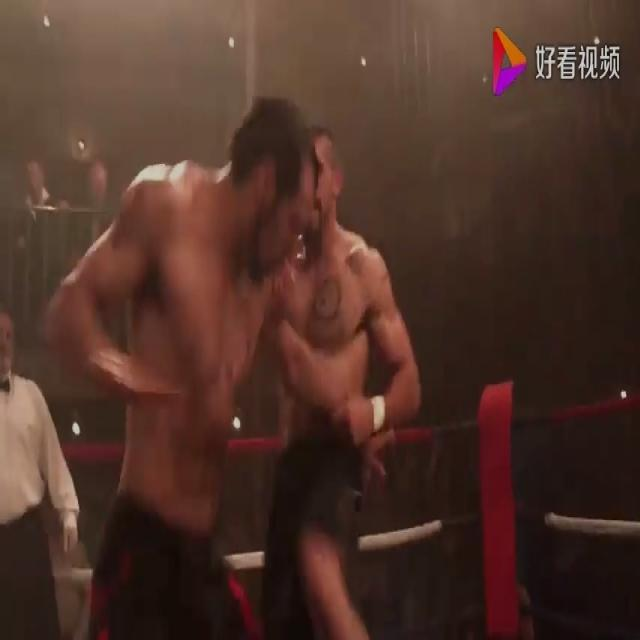fight: (44, 91, 421, 640)
non-fight: (0, 302, 78, 640)
